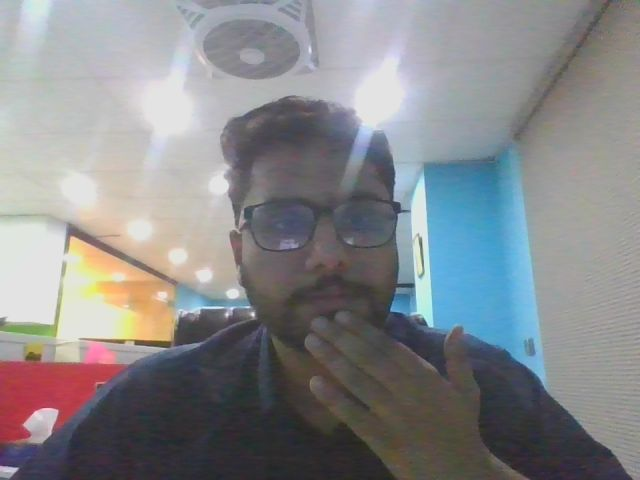thanks: (289, 303, 523, 476)
